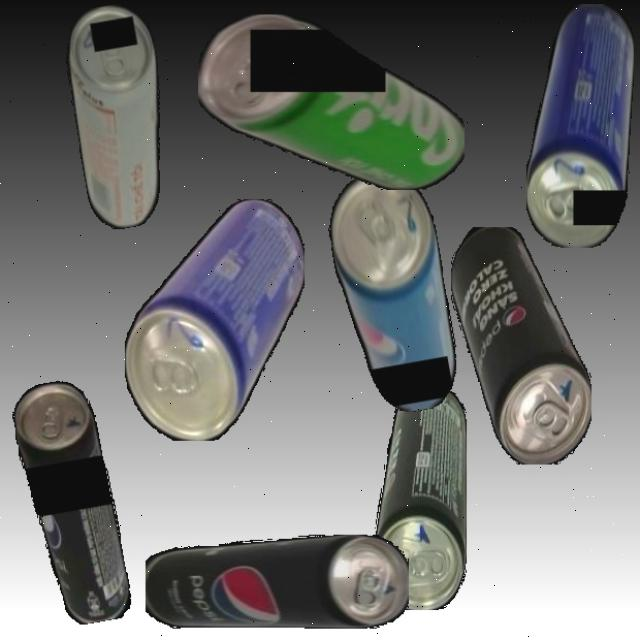debris: (198, 13, 465, 190), (124, 198, 304, 441), (321, 166, 466, 420), (450, 226, 592, 465), (8, 376, 134, 630), (57, 0, 184, 233), (525, 3, 634, 248), (144, 534, 409, 628), (374, 384, 466, 610)
